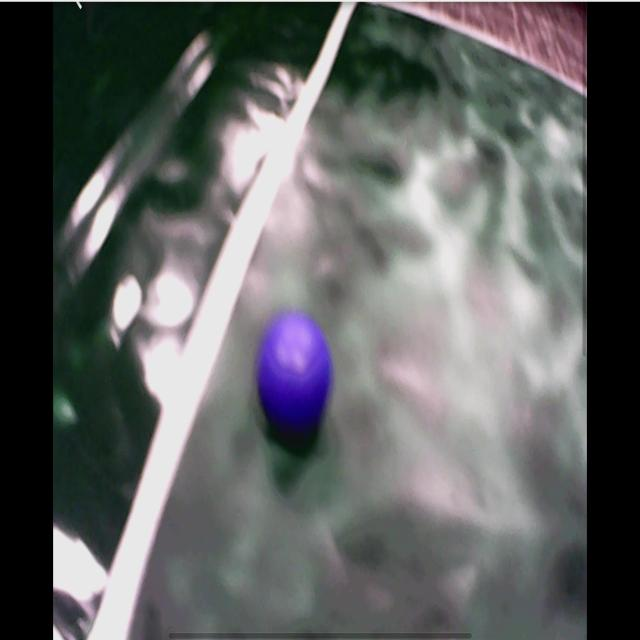ball: (258, 314, 333, 430)
